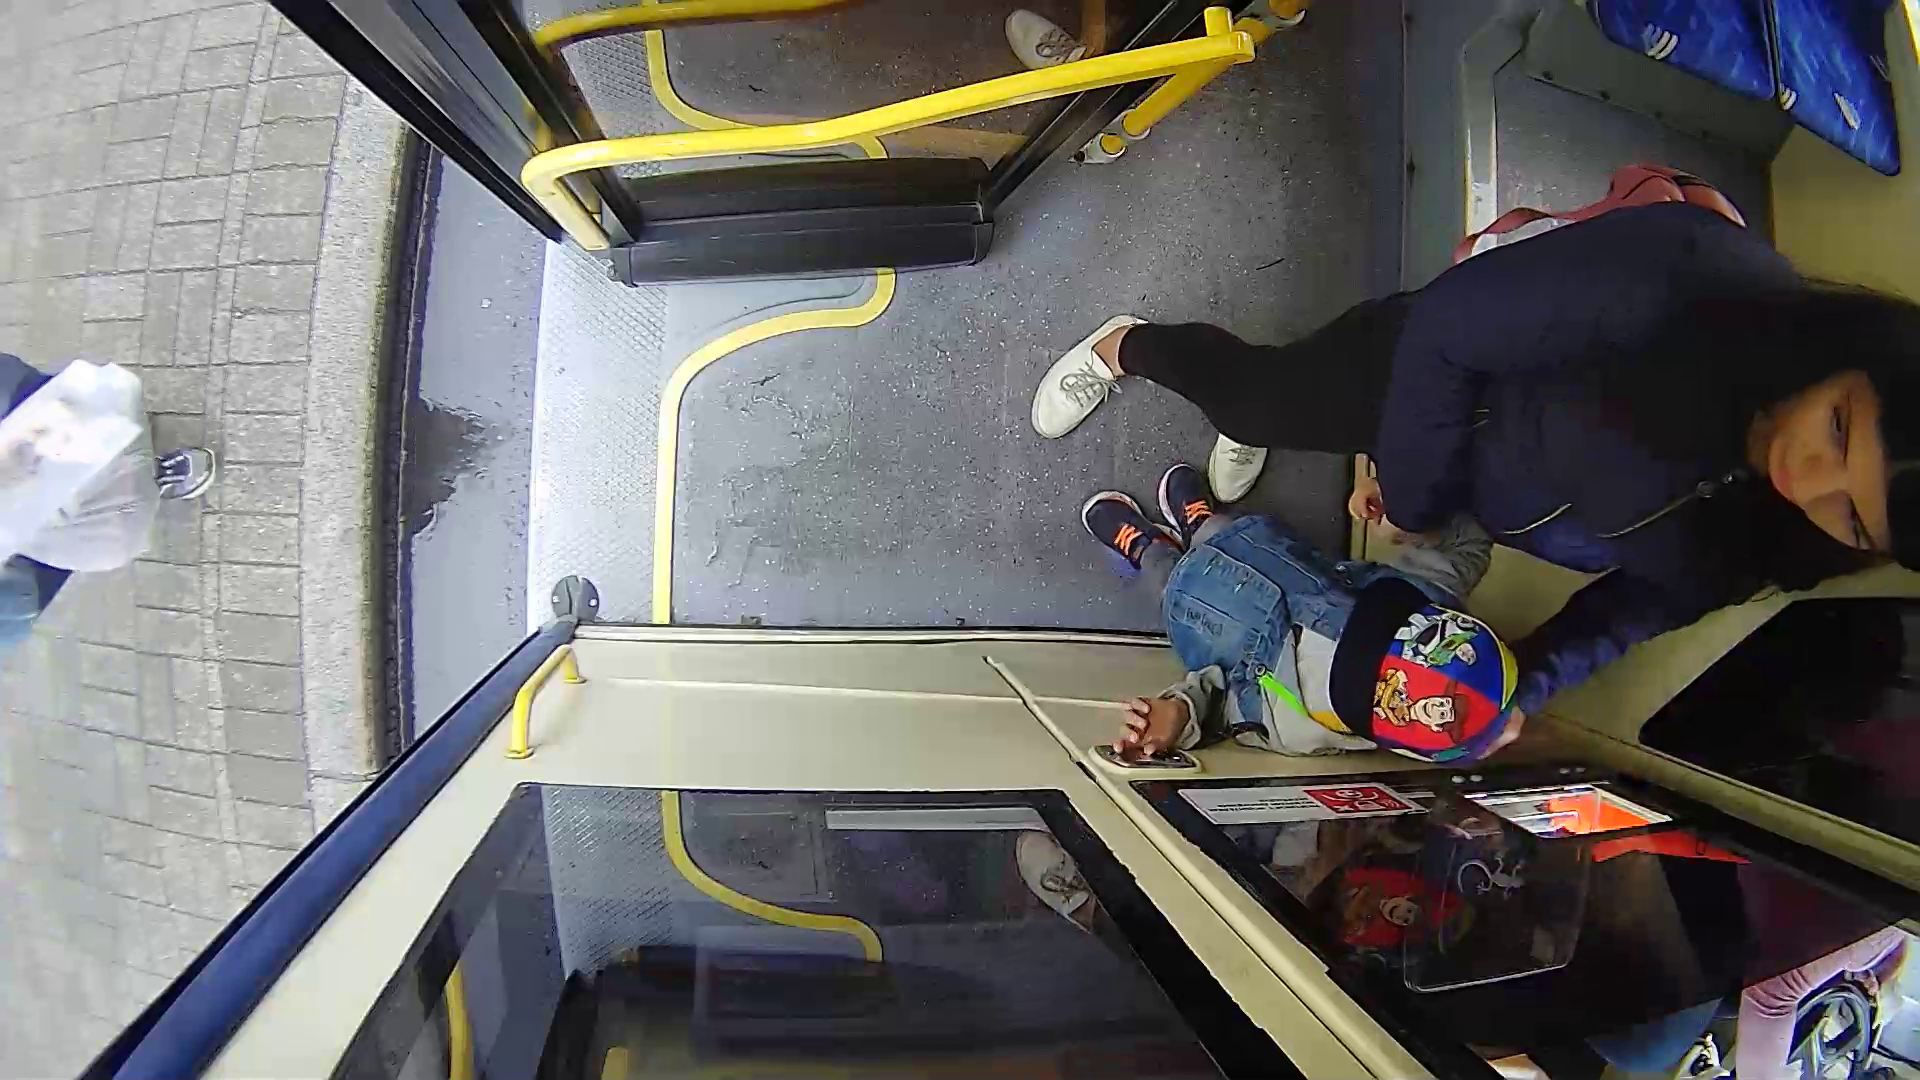person: (1036, 155, 1900, 700)
